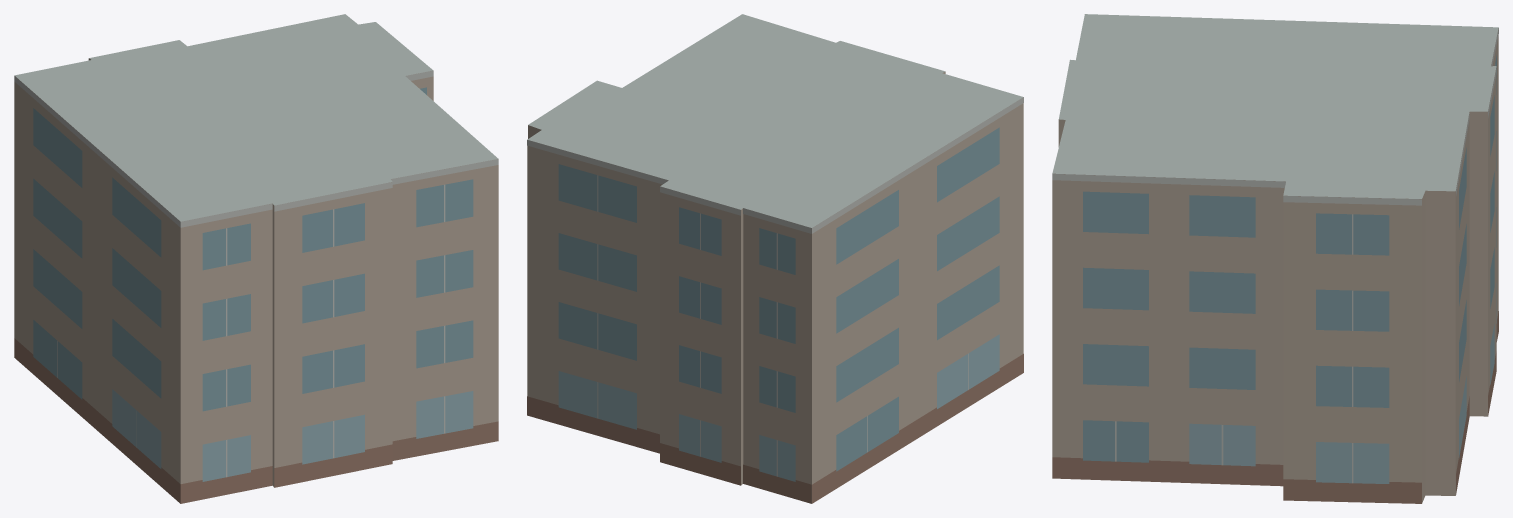
File: survey-upis-32834951.glb
3 renders of one model, left to right at view 1: azimuth 30°, elevation 25°; view 2: azimuth 150°, elevation 25°; view 3: azimuth 270°, elevation 25°, orthographic. The views are drawn at different scales.
Visible parts, largest first — view 1: survey-upis-32834951.tmp; view 2: survey-upis-32834951.tmp; view 3: survey-upis-32834951.tmp.
Part boxes in pixels (bbox=[...]): survey-upis-32834951.tmp: bbox=[14, 14, 498, 503]; survey-upis-32834951.tmp: bbox=[527, 14, 1023, 503]; survey-upis-32834951.tmp: bbox=[1052, 14, 1498, 503].
Bounding box in the file's own units: 14.86 × 11.4 × 15.14.
